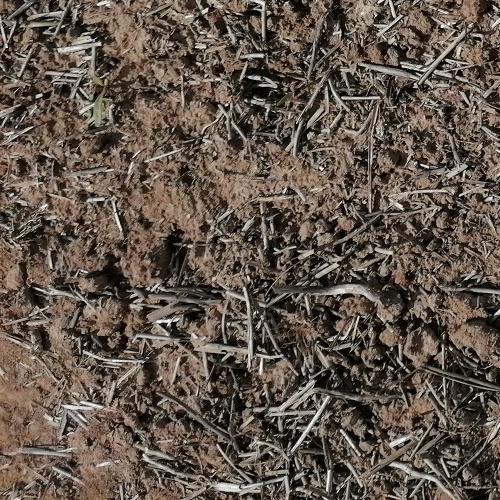beet: (88, 70, 110, 126)
